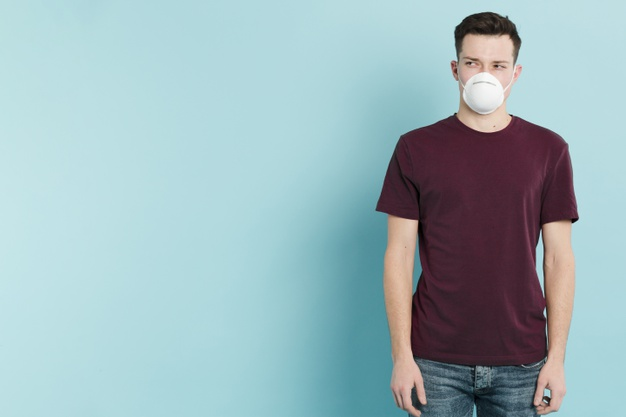with_mask: (445, 22, 521, 124)
